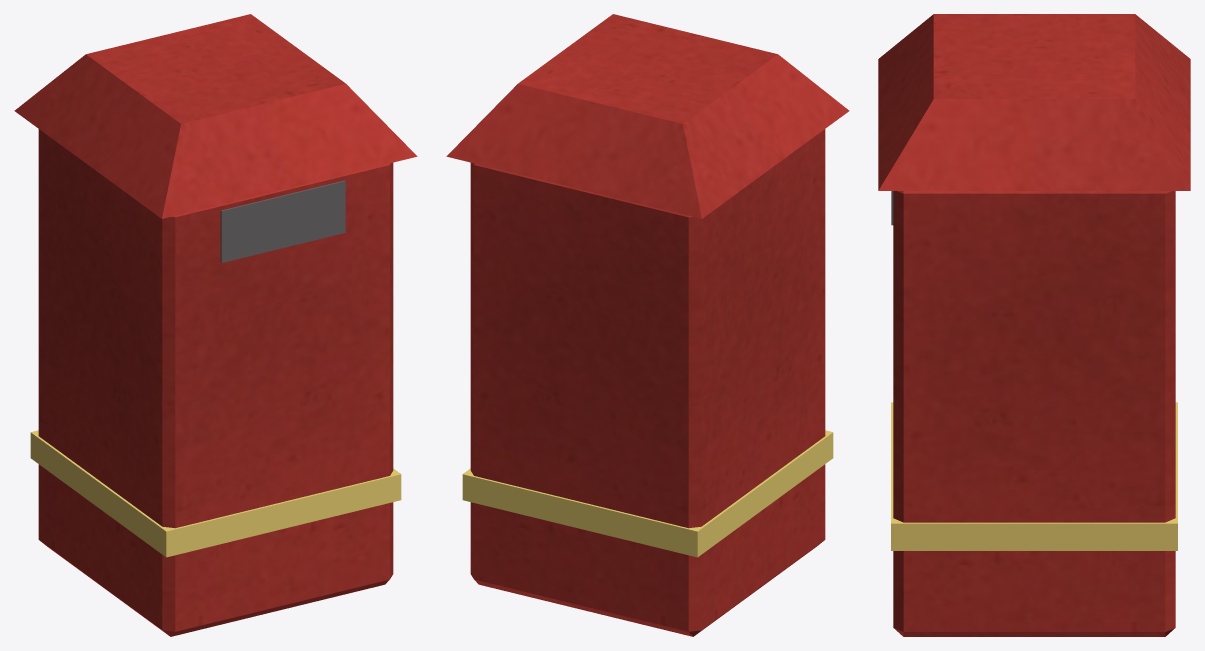
Rendered from bin.glb.
3 renders of one model, left to right at view 1: azimuth 30°, elevation 25°; view 2: azimuth 150°, elevation 25°; view 3: azimuth 270°, elevation 25°, orthographic. The views are drawn at different scales.
Visible parts, largest first — view 1: bin_red, bin_accent, bin_dark; view 2: bin_red, bin_accent; view 3: bin_red, bin_accent.
Part boxes in pixels (left/top/right/bottom): bin_red: left=14, top=14, right=417, bottom=636; bin_accent: left=30, top=430, right=401, bottom=557; bin_dark: left=220, top=180, right=345, bottom=262; bin_red: left=446, top=14, right=849, bottom=636; bin_accent: left=462, top=430, right=833, bottom=557; bin_red: left=878, top=14, right=1190, bottom=636; bin_accent: left=891, top=402, right=1177, bottom=550.
Size of the model in its own units: 0.62 by 1.15 by 0.62.
Materials: 3 (1 with a texture image).
